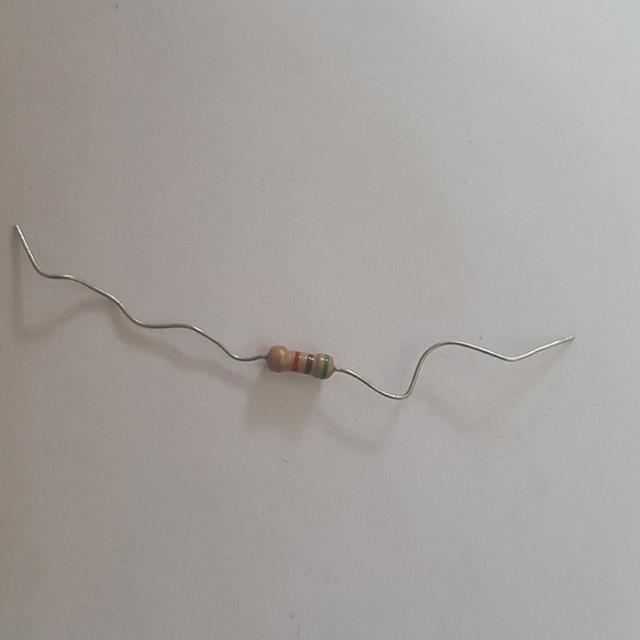brown: (306, 353, 312, 371)
gold: (277, 347, 283, 369)
green: (322, 354, 328, 377)
red: (293, 350, 299, 369)
resistor: (263, 340, 340, 390)
